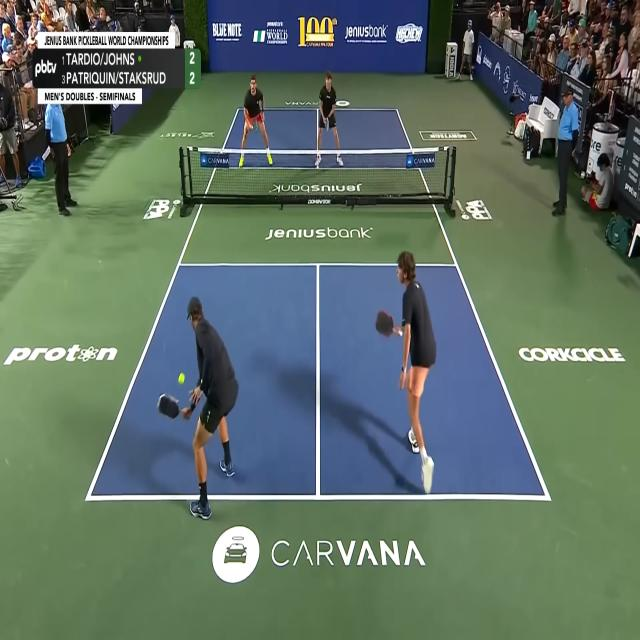ball: (178, 372, 185, 385)
